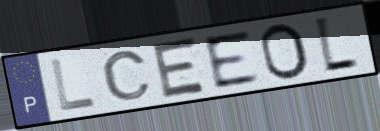C: (99, 49, 154, 102)
E: (150, 34, 210, 101), (201, 28, 263, 91)
L: (311, 14, 361, 76), (48, 56, 99, 114)
O: (258, 22, 312, 83)
